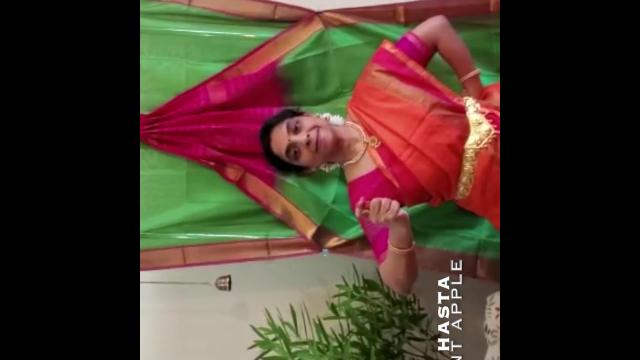kapitth: (352, 181, 423, 247)
